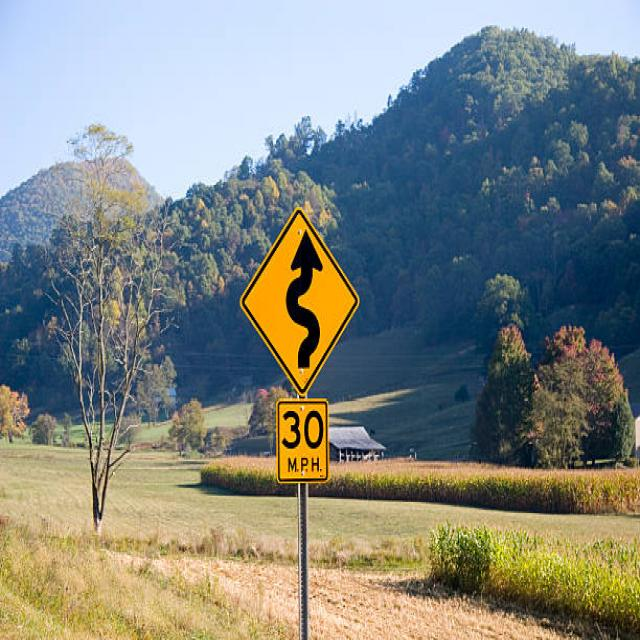left_sharp_curve: (235, 196, 358, 394)
